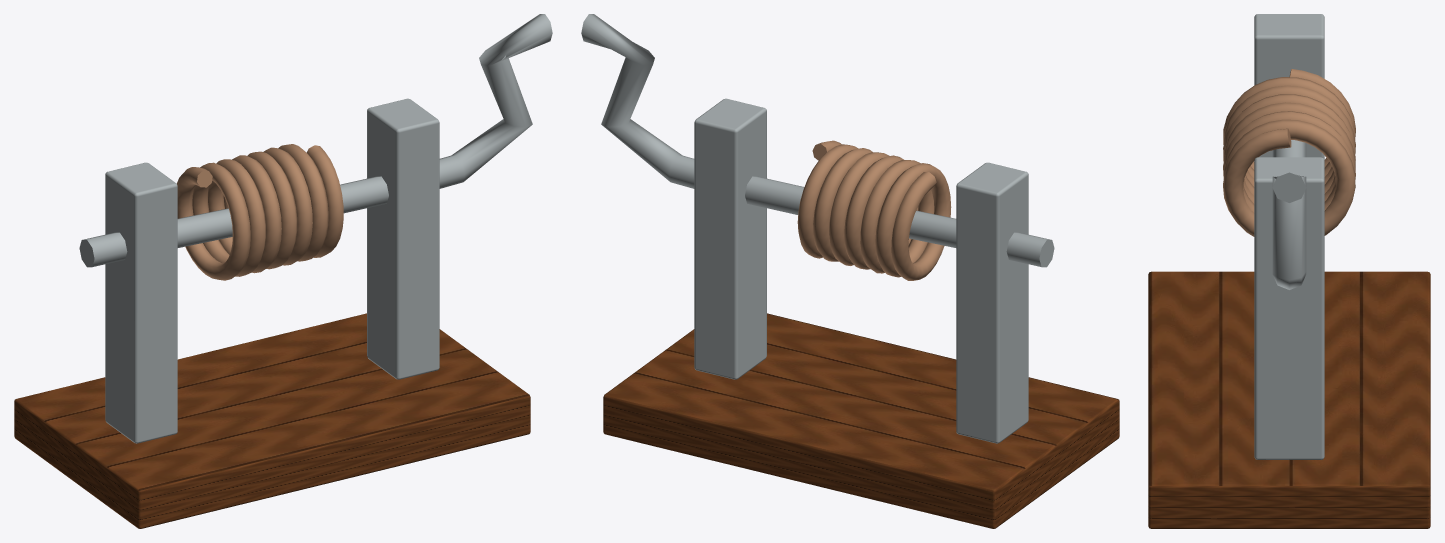
The model's file is research-and-crafting-progression-winding-jig-474f2fa9__2878.glb.
3 views of the same model, side by side, from view 1: azimuth 30°, elevation 25°; view 2: azimuth 150°, elevation 25°; view 3: azimuth 270°, elevation 25° (orthographic). The views are drawn at different scales.
Parts seen in each view (by area): view 1: winding-jig; view 2: winding-jig; view 3: winding-jig.
Boxes of the visible parts, left/top/right/bottom form: winding-jig: left=14, top=14, right=552, bottom=528; winding-jig: left=581, top=14, right=1119, bottom=528; winding-jig: left=1148, top=14, right=1430, bottom=528.
Bounding box in the file's own units: 0.43 × 0.312 × 0.2.
3 materials, 1 textured.
